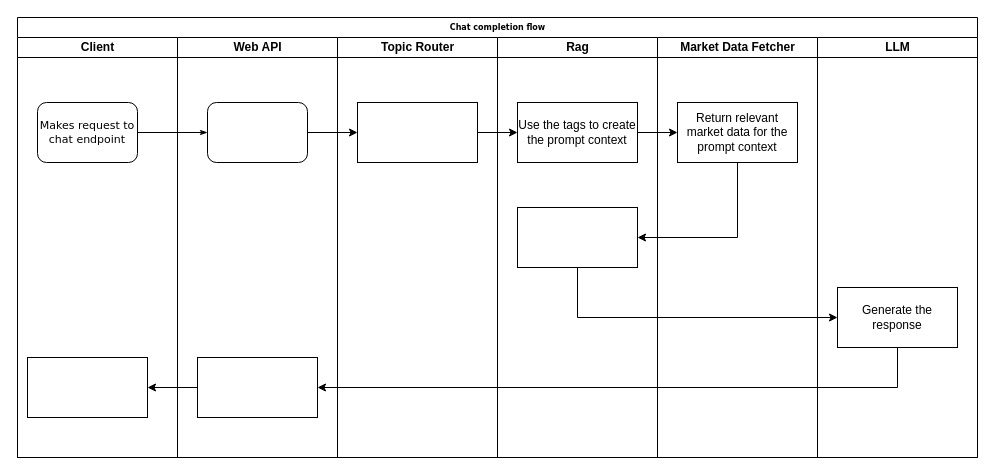
This 995x475 diagram has some shape labels left out. The shapes that lost their labels are listed below. From the top down, each one's centre as x and y in pixels, then its label:
At pixel 257 132: "Extracts topic and tags from the request".
At pixel 417 132: "Find the rag for the given topic".
At pixel 577 237: "Create prompt with the context to generate a response".
At pixel 87 387: "Consume the response".
At pixel 257 387: "Stream the response chunk by chunk".
